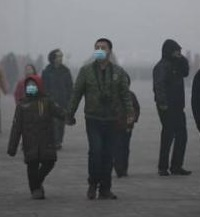person: (68, 37, 130, 201), (6, 73, 66, 200), (152, 37, 195, 175), (43, 49, 75, 152), (113, 73, 141, 178), (15, 61, 46, 96), (3, 52, 19, 95)
